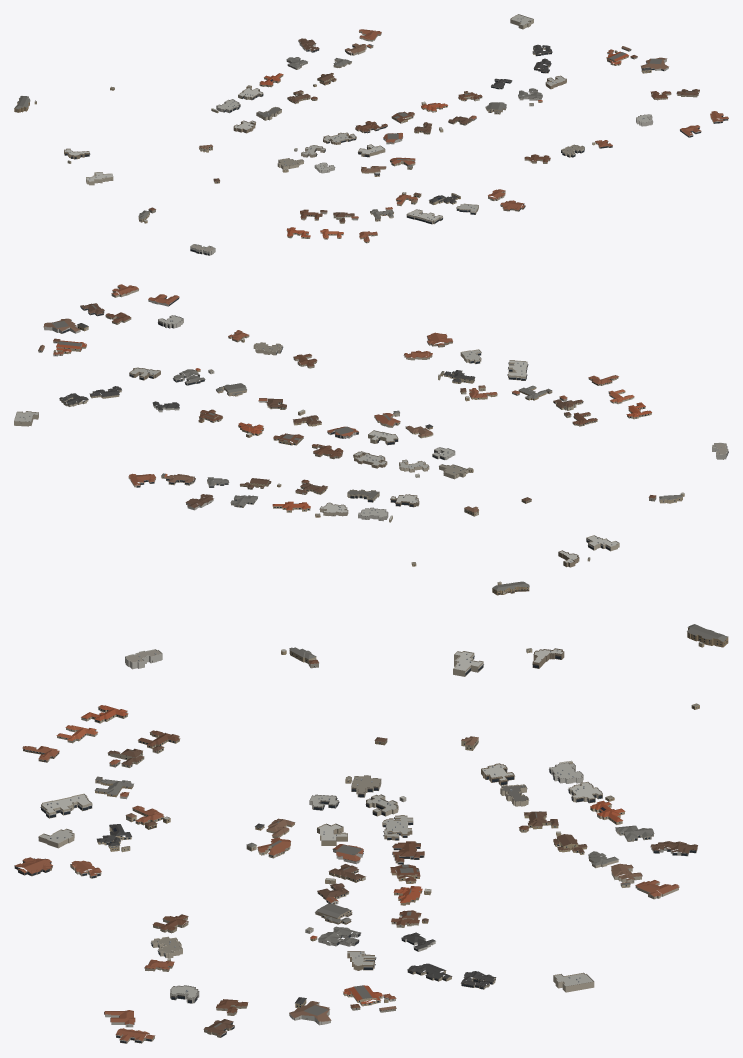
The picture shows the model from 3 angles, top to bottom: view 1: azimuth 30°, elevation 25°; view 2: azimuth 150°, elevation 25°; view 3: azimuth 270°, elevation 25°; orthographic projection. The views are drawn at different scales.
Visible parts, largest first — view 1: buildings_r6_c0_lod0; view 2: buildings_r6_c0_lod0; view 3: buildings_r6_c0_lod0.
Part boxes in pixels (<box>): buildings_r6_c0_lod0: <box>14,14,728,255</box>; buildings_r6_c0_lod0: <box>14,284,728,595</box>; buildings_r6_c0_lod0: <box>14,624,728,1043</box>.
Size of the model in its own units: 1128 by 68.47 by 828.
